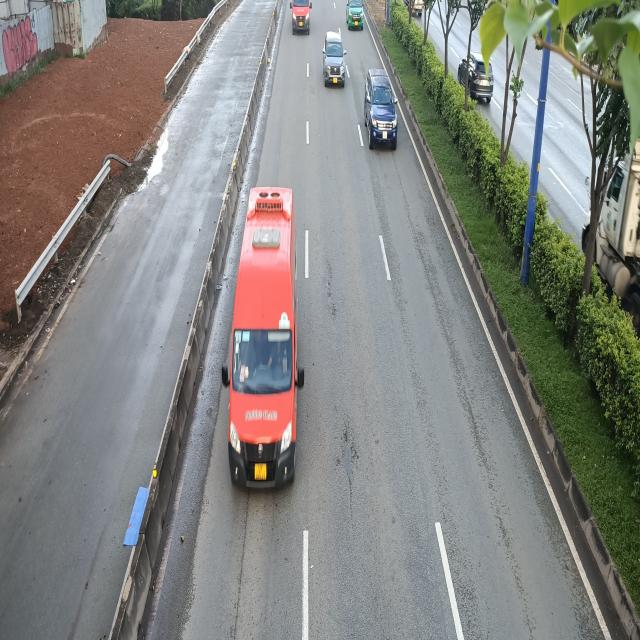car: (363, 68, 398, 150), (323, 31, 346, 87), (347, 0, 365, 29)
van: (224, 184, 308, 486), (290, 0, 311, 33)
